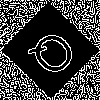Q: (25, 25, 87, 87)
